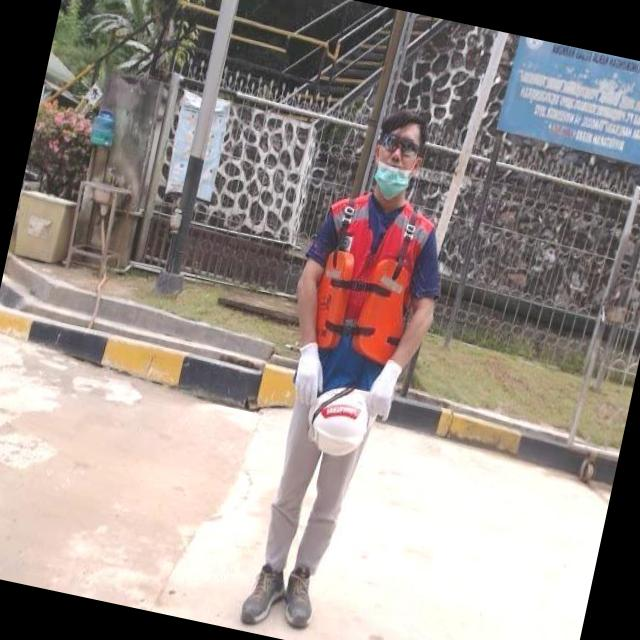vest: (290, 182, 440, 404)
